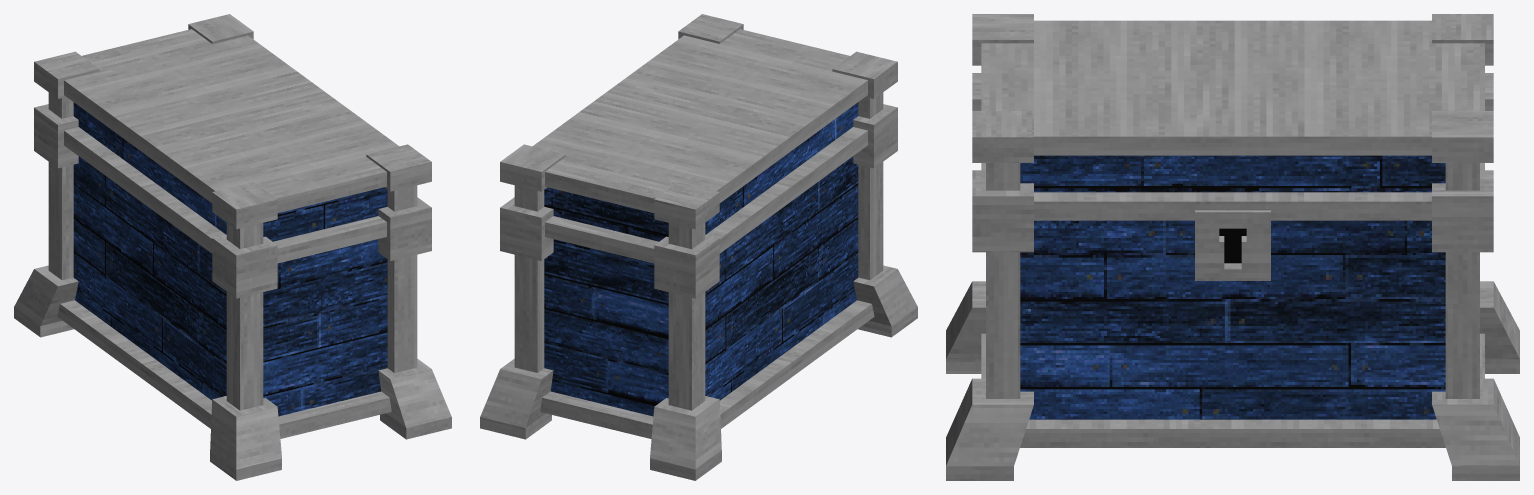
Rendered from pixel_chest3_lowpoly.fbx.
3 renders of one model, left to right at view 1: azimuth 30°, elevation 25°; view 2: azimuth 150°, elevation 25°; view 3: azimuth 270°, elevation 25°, orthographic. The views are drawn at different scales.
Visible parts, largest first — view 1: psx_chest3_metal2, psx_chest3_base, psx_chest3_metal3, psx_chest3_metal; view 2: psx_chest3_metal2, psx_chest3_base, psx_chest3_metal3, psx_chest3_metal; view 3: psx_chest3_base, psx_chest3_metal2, psx_chest3_metal3, psx_chest3_metal, psx_chest3_locker, psx_chest3_locker2.
Part boxes in pixels (bbox=[...]): psx_chest3_metal2: bbox=[57, 29, 399, 438]; psx_chest3_base: bbox=[73, 102, 387, 416]; psx_chest3_metal3: bbox=[14, 14, 451, 480]; psx_chest3_metal: bbox=[48, 92, 417, 410]; psx_chest3_metal2: bbox=[532, 29, 874, 438]; psx_chest3_base: bbox=[544, 102, 858, 416]; psx_chest3_metal3: bbox=[480, 14, 917, 480]; psx_chest3_metal: bbox=[514, 92, 883, 410]; psx_chest3_base: bbox=[1020, 155, 1445, 419]; psx_chest3_metal2: bbox=[981, 20, 1484, 447]; psx_chest3_metal3: bbox=[946, 14, 1519, 480]; psx_chest3_metal: bbox=[986, 163, 1479, 398]; psx_chest3_locker: bbox=[1195, 210, 1270, 280]; psx_chest3_locker2: bbox=[1219, 228, 1246, 263].
Bounding box in the file's own units: 279 × 324 × 499.
